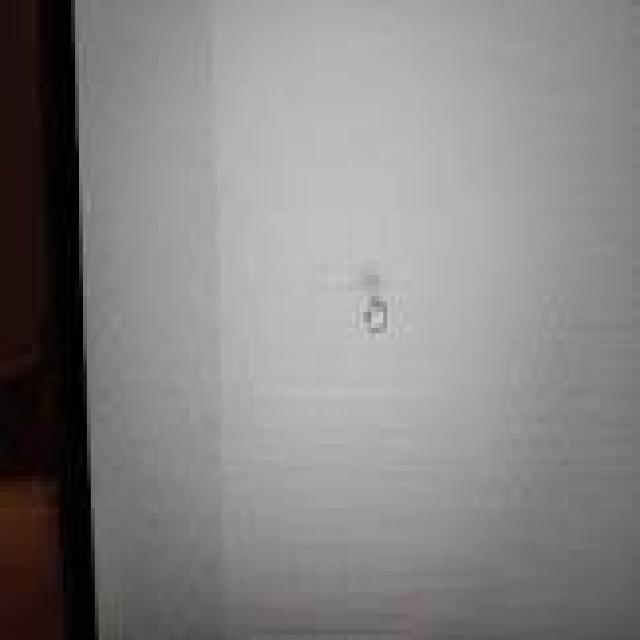dead_pixel: (357, 289, 392, 342)
